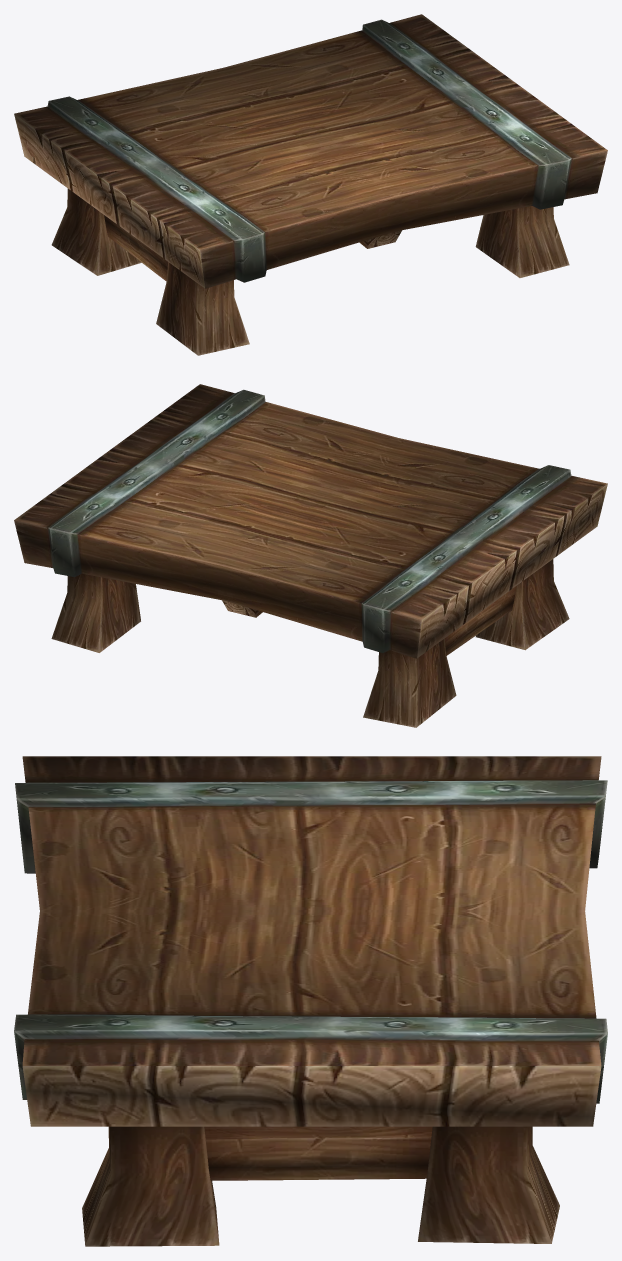
3 renders of one model, top to bottom at view 1: azimuth 30°, elevation 25°; view 2: azimuth 150°, elevation 25°; view 3: azimuth 270°, elevation 25°, orthographic. The views are drawn at different scales.
Size of the model in its own units: 3.62 by 1.08 by 2.93.
Materials: 2 (2 with a texture image).
